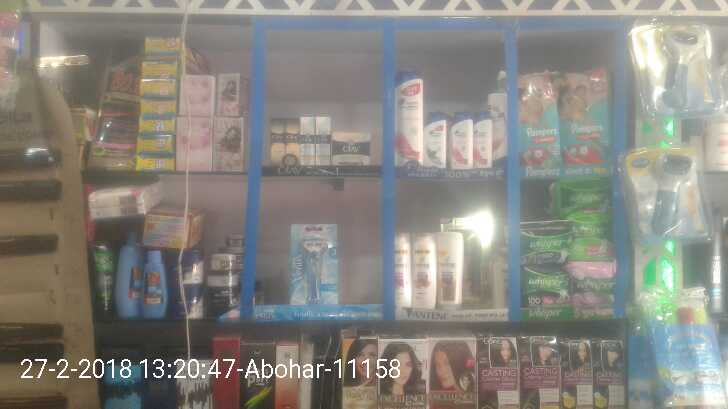venus: (290, 223, 337, 307)
